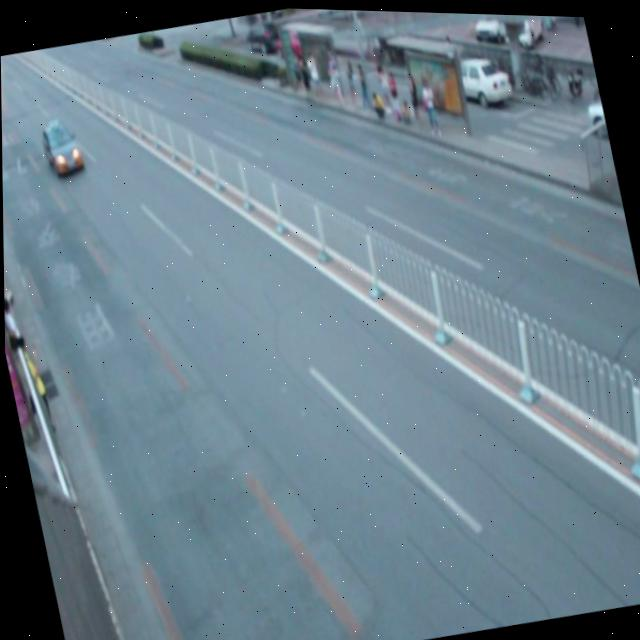car: (38, 115, 87, 184)
